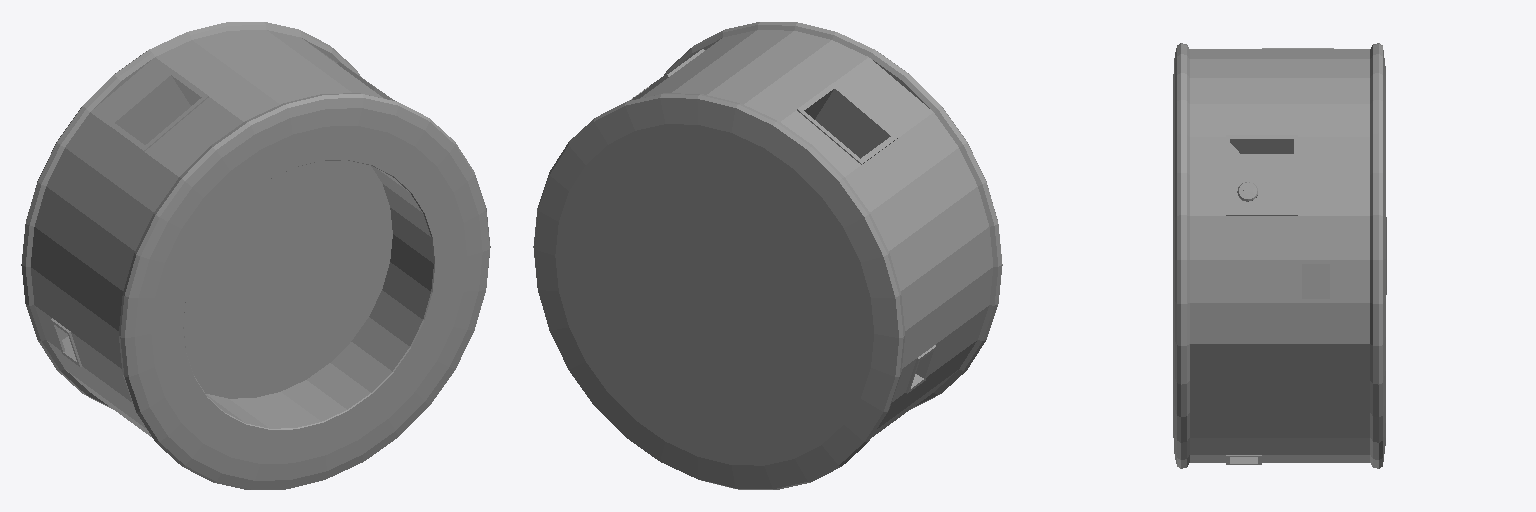
File: drum.obj
The picture shows the model from 3 angles: view 1: azimuth 30°, elevation 25°; view 2: azimuth 150°, elevation 25°; view 3: azimuth 270°, elevation 25°; orthographic projection.
Parts seen in each view (by area): view 1: Drum_Cylinder; view 2: Drum_Cylinder; view 3: Drum_Cylinder.
Part boxes in pixels (x1,y1,x2,y2): Drum_Cylinder: (21, 22, 490, 489); Drum_Cylinder: (533, 22, 1002, 489); Drum_Cylinder: (1173, 43, 1386, 468).
Size of the model in its own units: 2.05 by 2.04 by 1.02.